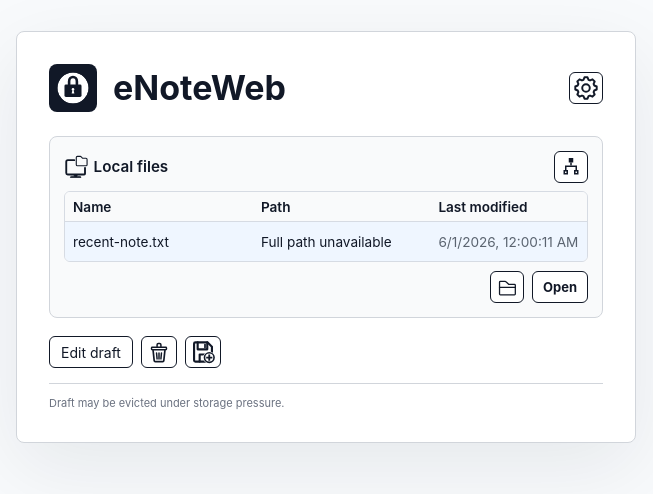
App local file home screen › home Save As preserves the draft when the local write fails
Step 1. Click the button named "Save As" → [203, 352], box [185,336,221,368]
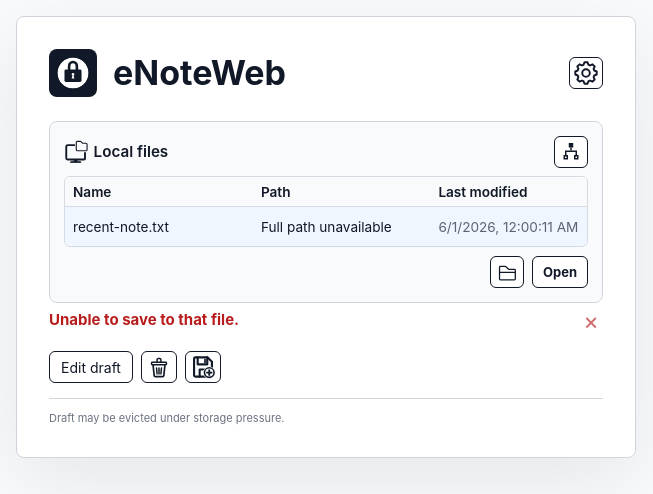
Expected: the button "Edit draft" is shown, [49,351,133,383]
Expected: the text "Unable to save to that file." is shown, [49,310,239,329]
